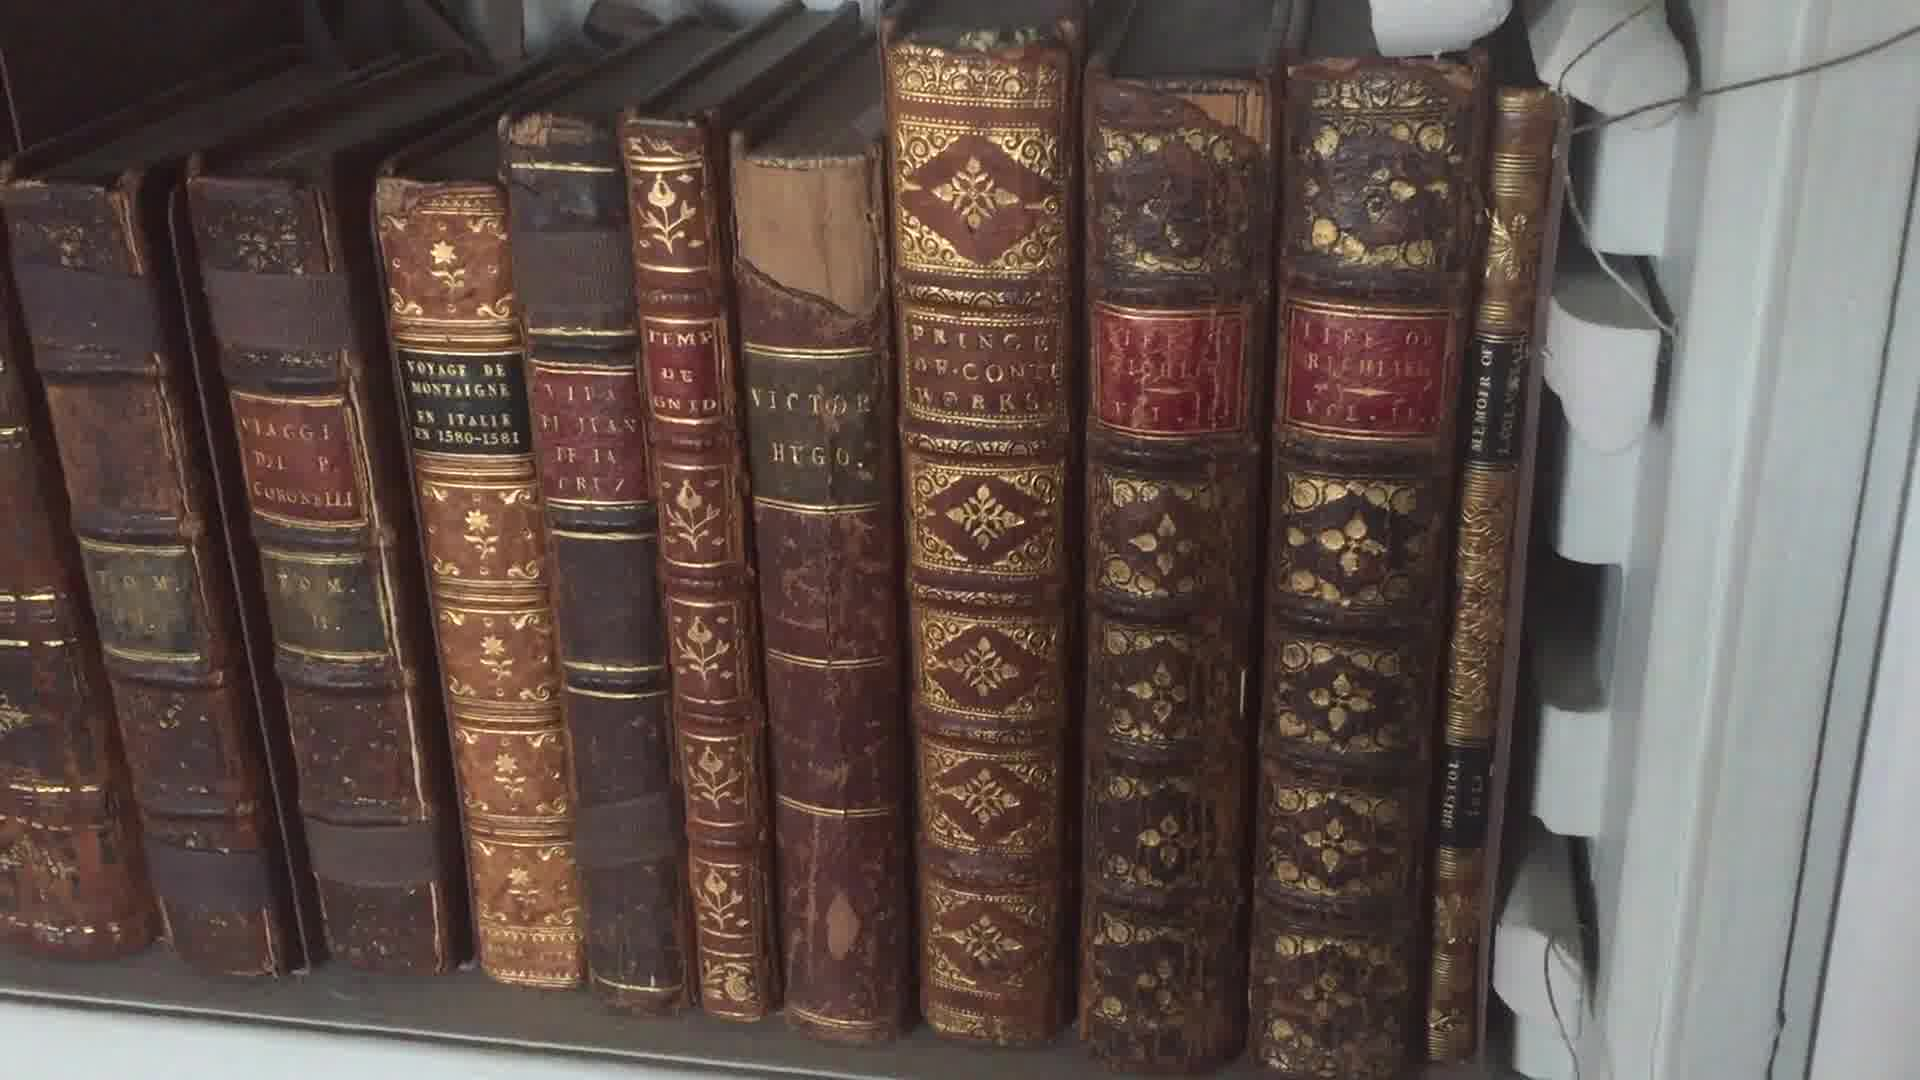Aa6-39_40: (16, 158, 455, 980)
Aa6-41: (360, 158, 607, 1014)
Aa6-42: (491, 127, 698, 1031)
Aa6-43: (615, 113, 785, 1040)
Aa6-44: (724, 123, 897, 1029)
Aa6-45: (870, 29, 1072, 1054)
Aa6-46-47: (1077, 69, 1422, 1080)
Aa6-48: (1424, 75, 1580, 1080)
